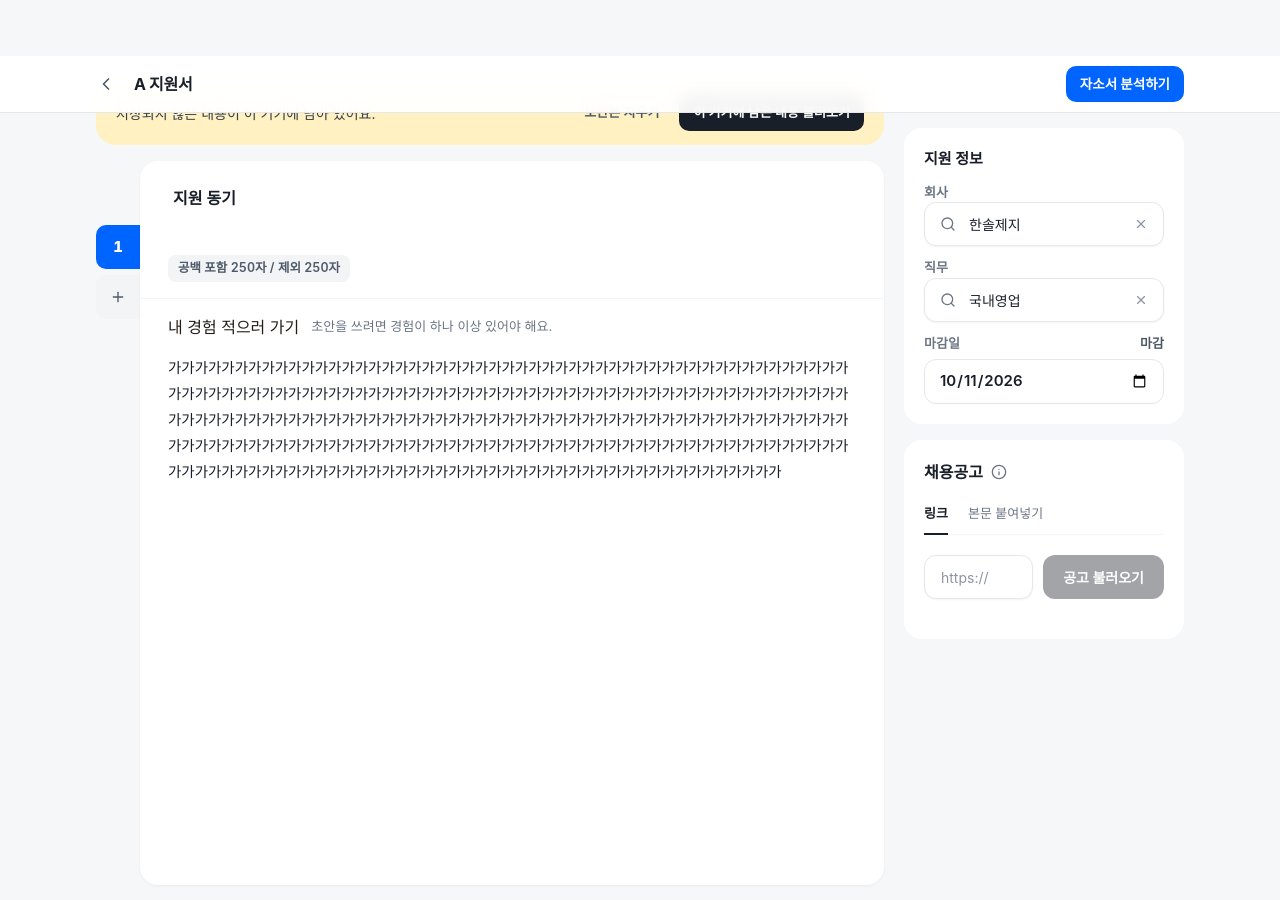
Test: 작업 화면 › 이 기기 임시 보관 › 보관본을 닫으면 지우고, 고치기 전에는 보관본을 건드리지 않는다
Expected: the button "이 기기에 남은 내용 불러오기" is shown, [679,95,864,131]
Click the button "보관본 지우기".
click(622, 113)  # box [572,95,671,131]
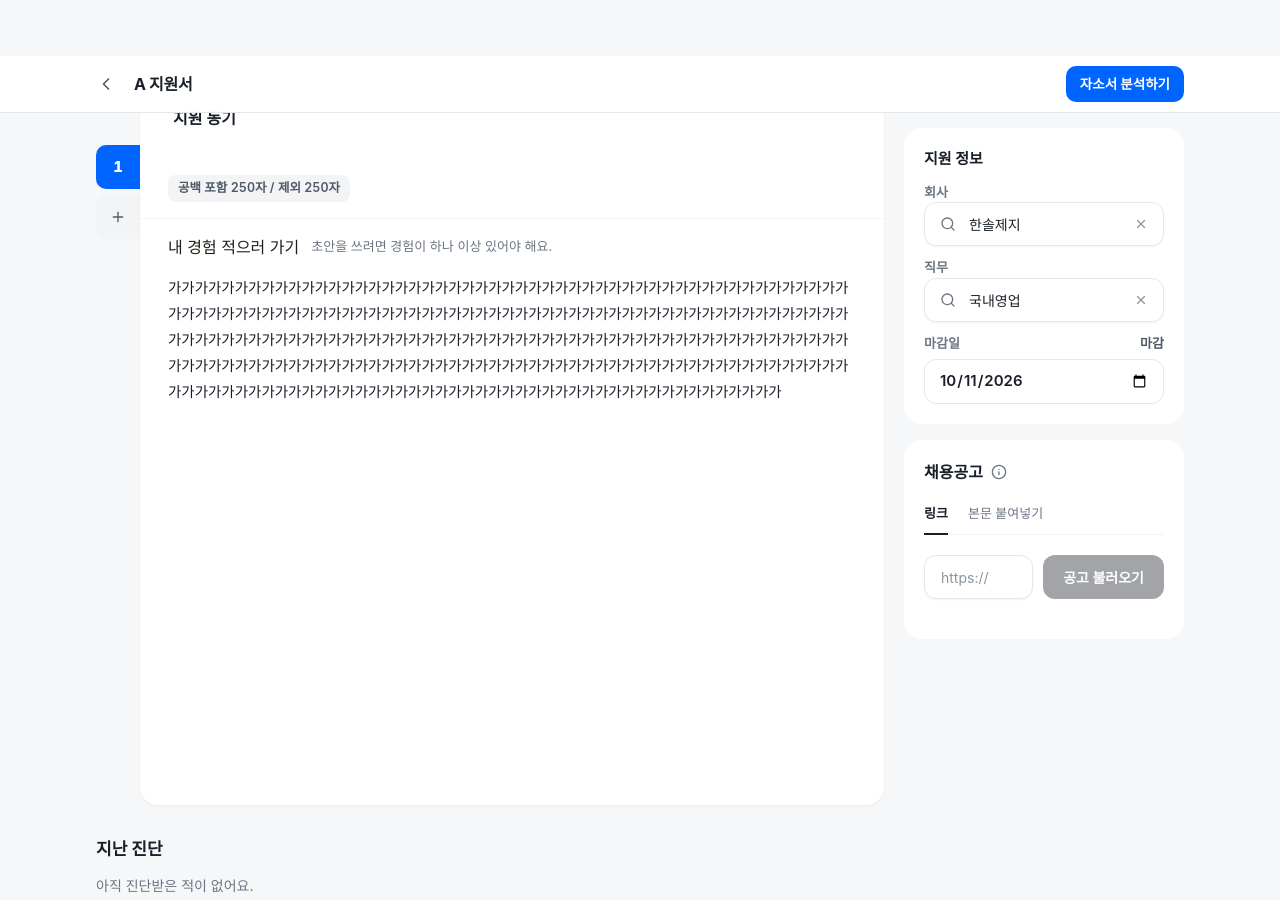
Expected: the button "이 기기에 남은 내용 불러오기" is gone
